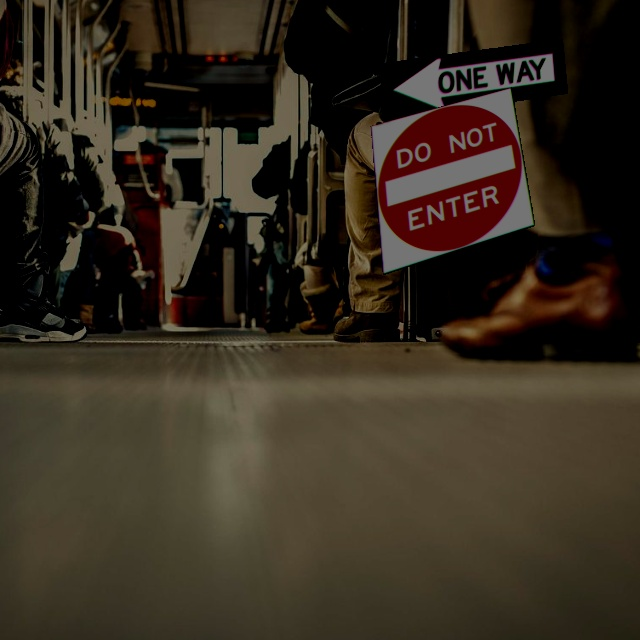DO_NOT_ENTER: (370, 87, 535, 275)
ONE_WAY_ left: (380, 38, 568, 121)
